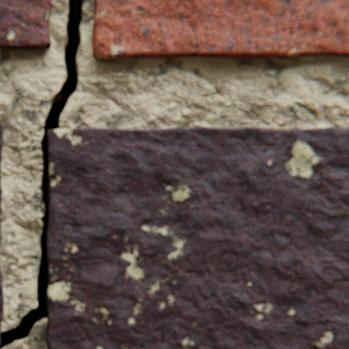brick: (46, 127, 348, 348), (92, 0, 348, 61), (0, 0, 50, 50), (0, 124, 3, 332)
crack: (0, 0, 83, 348)
